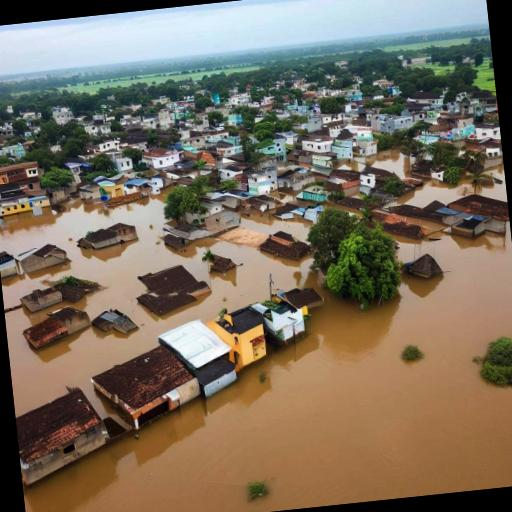flood: (0, 189, 512, 512), (395, 177, 474, 207), (241, 210, 312, 241), (367, 149, 411, 177), (481, 165, 507, 200), (409, 219, 444, 230), (338, 161, 364, 169)
house: (12, 382, 116, 488), (94, 344, 198, 430), (154, 311, 239, 405), (155, 188, 243, 254), (133, 262, 214, 318), (212, 306, 270, 376), (14, 270, 102, 316), (386, 197, 464, 244), (250, 291, 308, 351), (18, 306, 92, 352), (460, 188, 512, 240), (260, 228, 313, 267), (76, 220, 138, 251), (18, 240, 70, 276), (0, 184, 52, 219), (89, 305, 139, 340), (253, 129, 299, 165), (276, 282, 326, 314), (96, 176, 156, 202), (407, 146, 448, 184), (406, 88, 447, 123), (357, 163, 398, 197), (0, 158, 43, 190), (458, 118, 502, 146), (404, 250, 442, 282), (241, 168, 280, 195), (143, 146, 182, 172), (143, 146, 182, 170), (299, 135, 336, 158), (211, 134, 245, 158), (296, 184, 330, 206), (382, 114, 414, 134), (303, 104, 324, 134), (0, 247, 18, 280), (110, 152, 134, 176), (330, 136, 352, 160), (358, 135, 380, 157), (98, 136, 122, 152)
